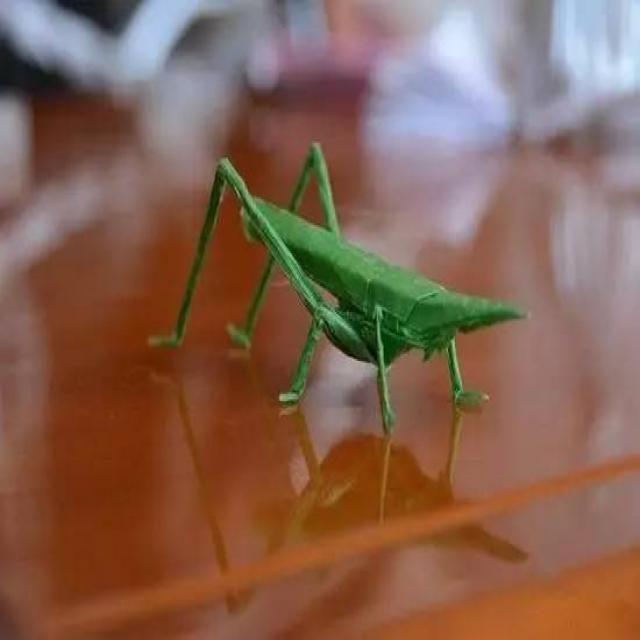ZhaMeng: (161, 127, 545, 438)
